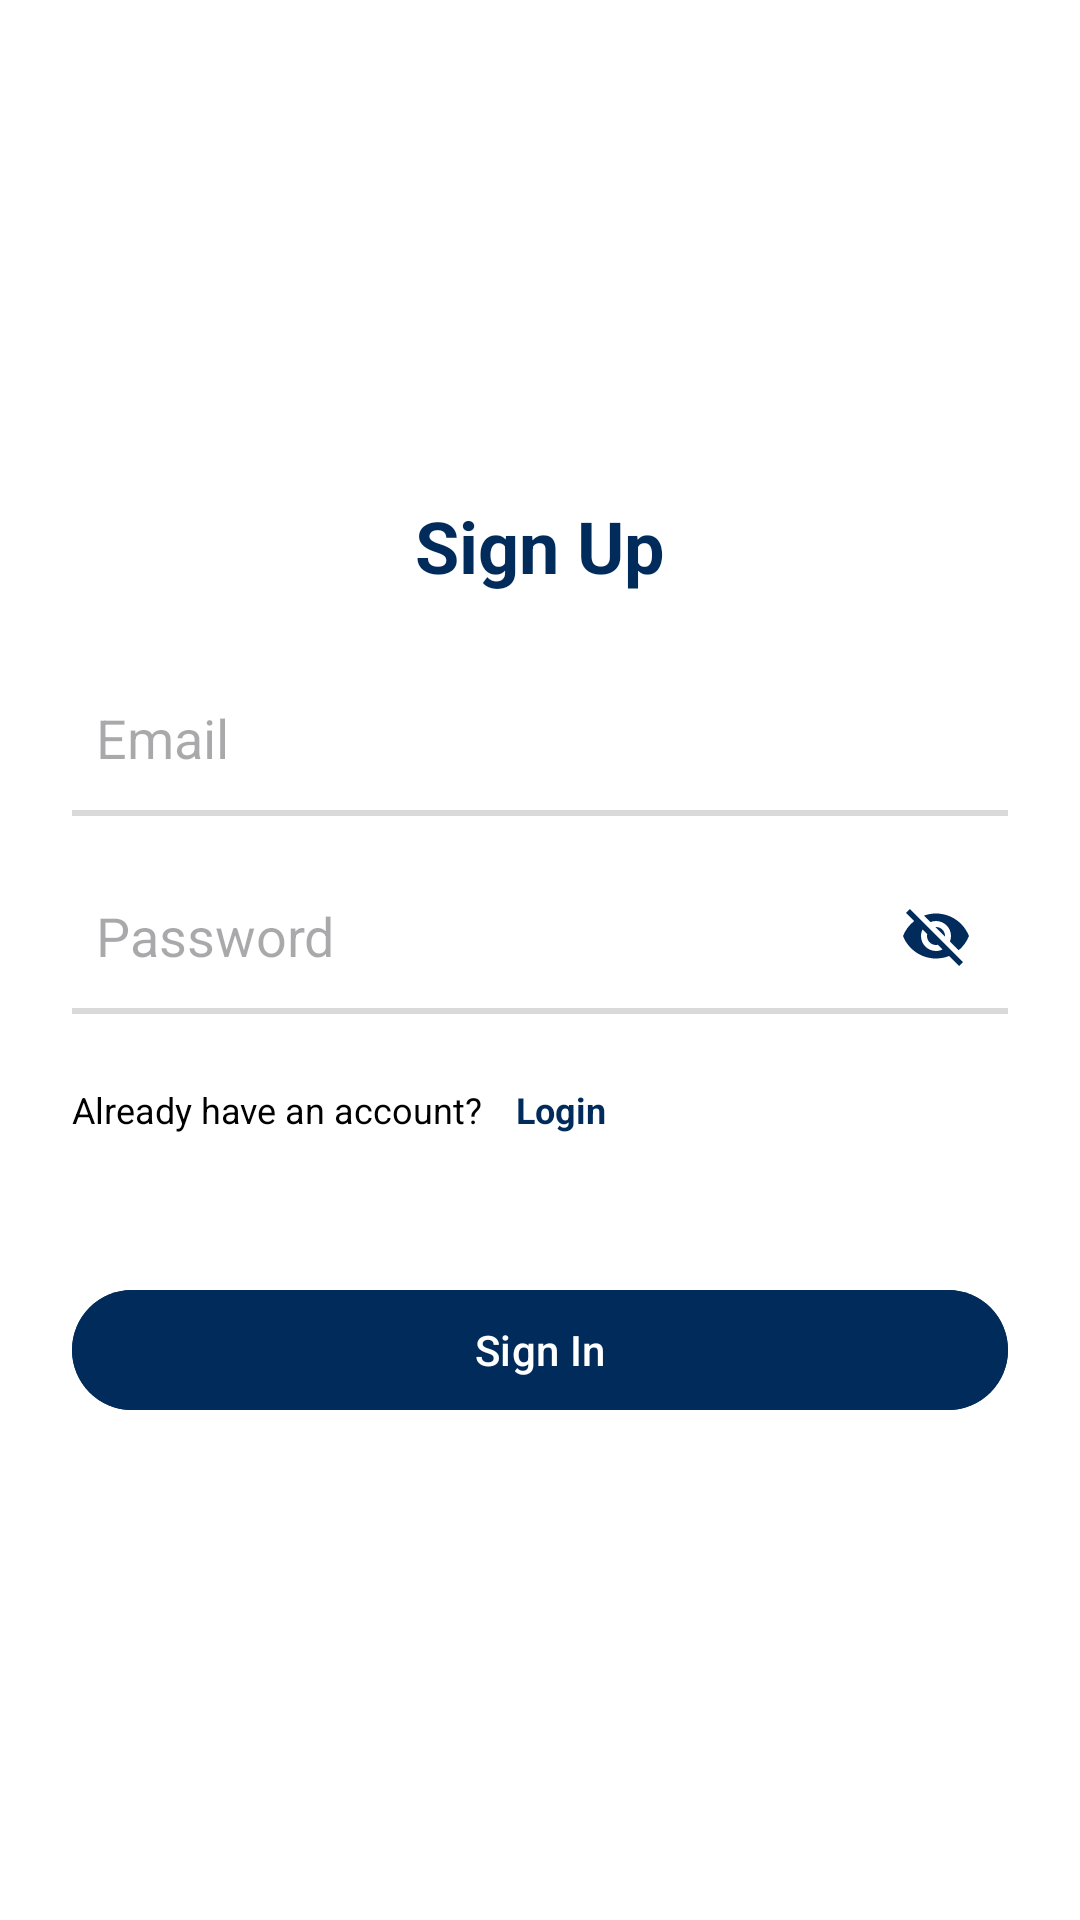

Named icons in this screenshot (1080px×1920px) and their bounding boxes, (x1, y1, x2, y2):
visibility off: (903, 909, 969, 966)
